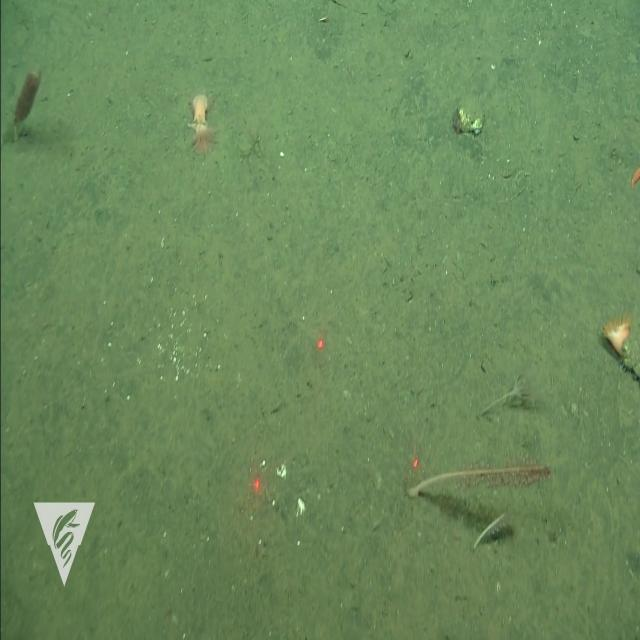Not Brittle Star: (504, 366, 536, 409)
